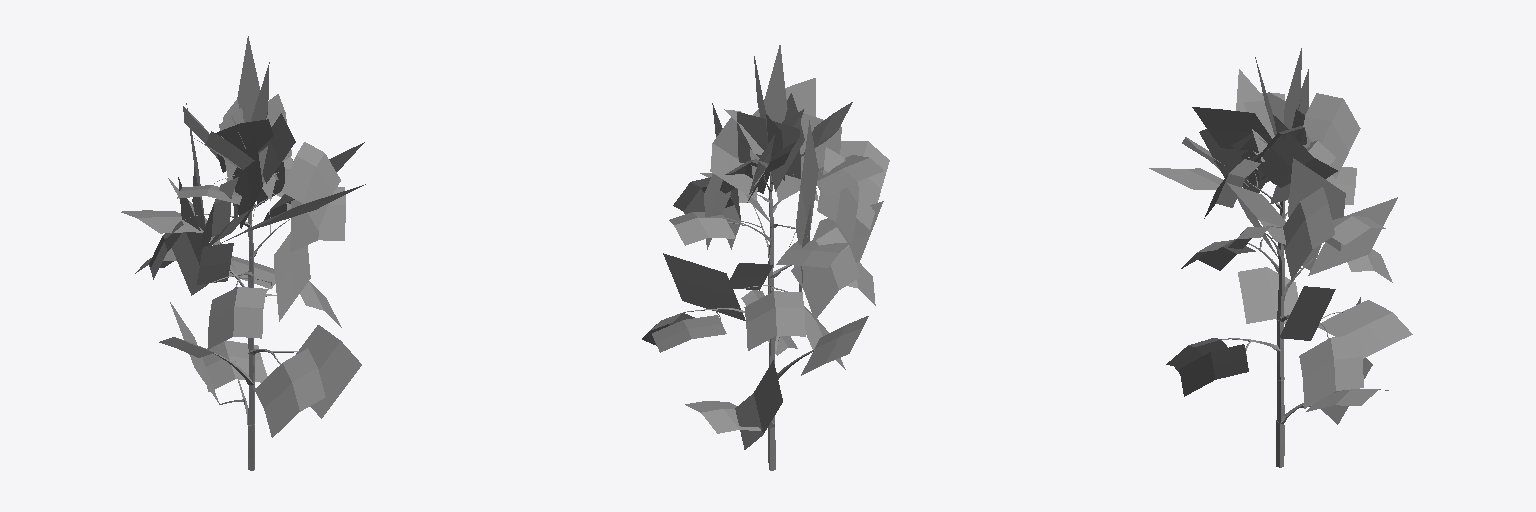
The model's file is tree_7.obj.
The picture shows the model from 3 angles: view 1: azimuth 30°, elevation 25°; view 2: azimuth 150°, elevation 25°; view 3: azimuth 270°, elevation 25°; orthographic projection.
Visible parts, largest first — view 1: Oak_Tree; view 2: Oak_Tree; view 3: Oak_Tree.
Boxes of the visible parts, x1,y1,x2,y2 form: Oak_Tree: [121, 36, 365, 470]; Oak_Tree: [642, 45, 889, 470]; Oak_Tree: [1149, 48, 1412, 467].
Size of the model in its own units: 9.38 by 19.28 by 10.95.